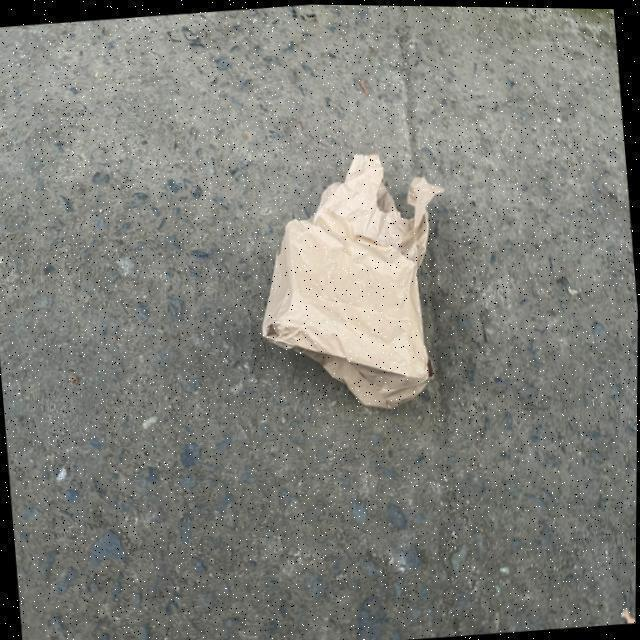Paper_Bag: (246, 142, 459, 416)
